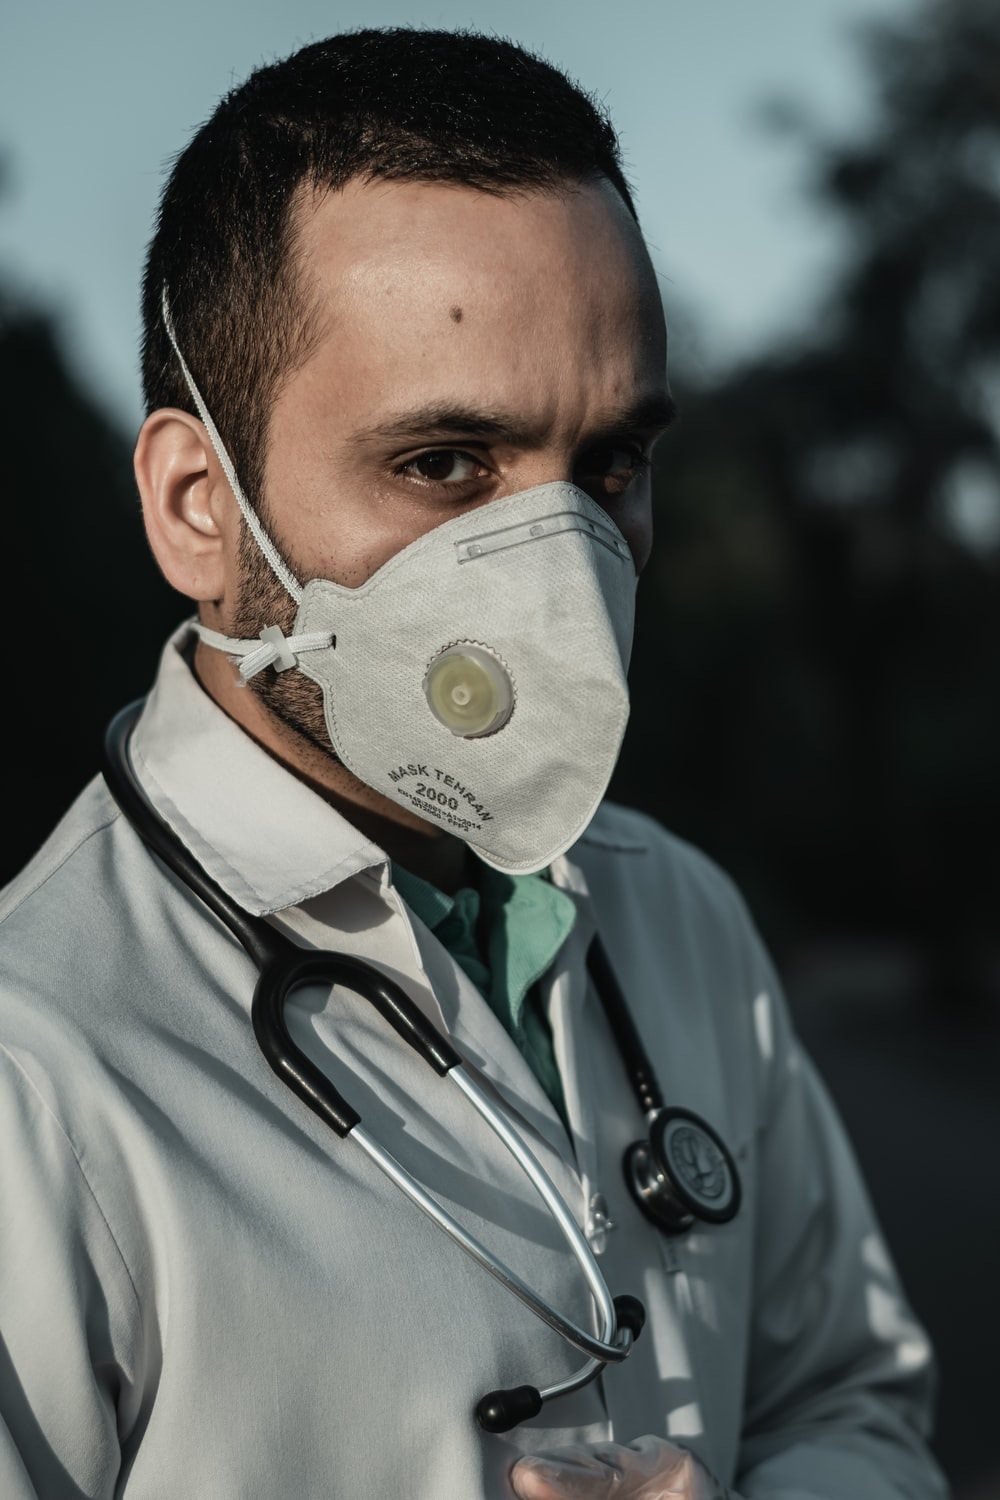n95: (244, 480, 658, 873)
